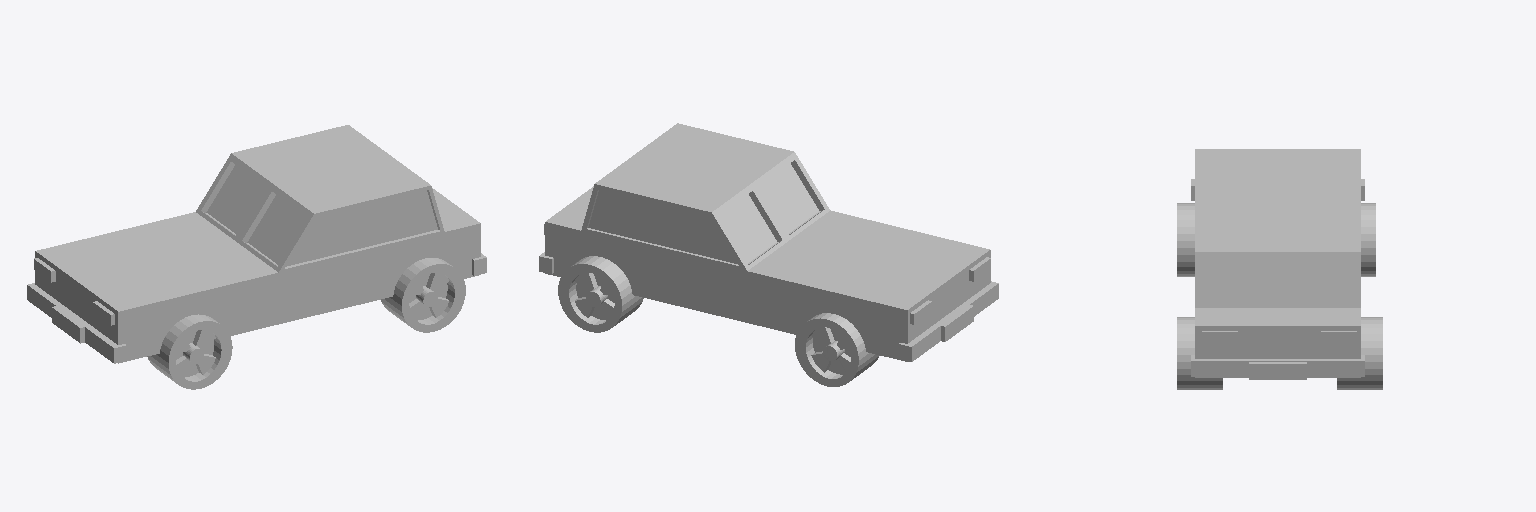
File: Square Car 1.obj
3 renders of one model, left to right at view 1: azimuth 30°, elevation 25°; view 2: azimuth 150°, elevation 25°; view 3: azimuth 270°, elevation 25°, orthographic.
Parts seen in each view (by area): view 1: Cube, Cube.001, Cylinder.003_Cylinder.010, Cylinder.006_Cylinder.007, Cube.004, Cube.008; view 2: Cube, Cube.001, Cylinder.007_Cylinder.012, Cylinder.005_Cylinder.011, Cube.004, Cube.008; view 3: Cube.001, Cube, Cube.005, Cylinder.007_Cylinder.012, Cylinder.003_Cylinder.010, Cylinder.006_Cylinder.007, Cylinder.005_Cylinder.011, Cube.009.
Part boxes in pixels (x1,y1,x2,y2): Cube: (35,188,480,363); Cube.001: (196,125,444,272); Cylinder.003_Cylinder.010: (381,258,465,332); Cylinder.006_Cylinder.007: (147,314,232,389); Cube.004: (27,283,126,363); Cube.008: (52,306,84,343); Cube: (545,186,990,361); Cube.001: (581,123,829,270); Cylinder.007_Cylinder.012: (558,256,643,332); Cylinder.005_Cylinder.011: (795,313,879,386); Cube.004: (899,281,998,361); Cube.008: (941,305,973,341); Cube.001: (1195,194,1360,307); Cube: (1195,149,1360,377); Cube.005: (1191,355,1364,376); Cylinder.007_Cylinder.012: (1337,317,1382,389); Cylinder.003_Cylinder.010: (1177,317,1222,389); Cylinder.006_Cylinder.007: (1177,203,1194,276); Cylinder.005_Cylinder.011: (1361,203,1375,276); Cube.009: (1249,362,1306,379).
Bounding box in the file's own units: 2.74 × 0.9502 × 1.28.